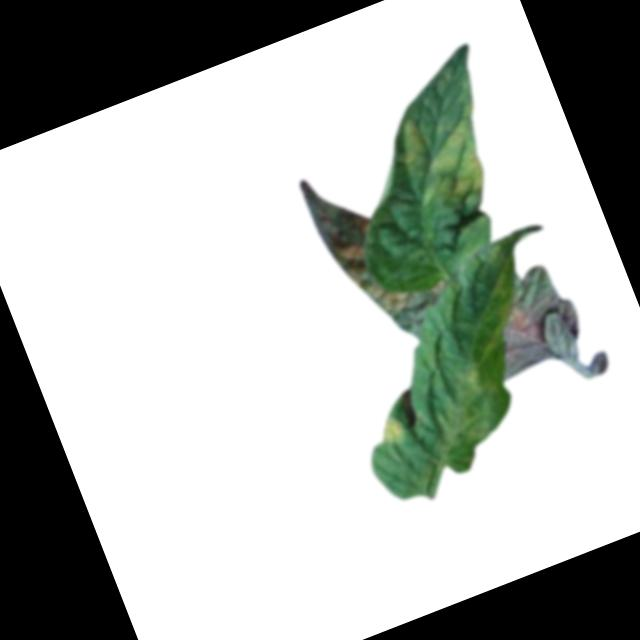Leaf_Mold: (385, 86, 508, 221), (469, 260, 589, 382), (298, 165, 395, 305), (364, 271, 459, 351), (375, 410, 408, 448)
